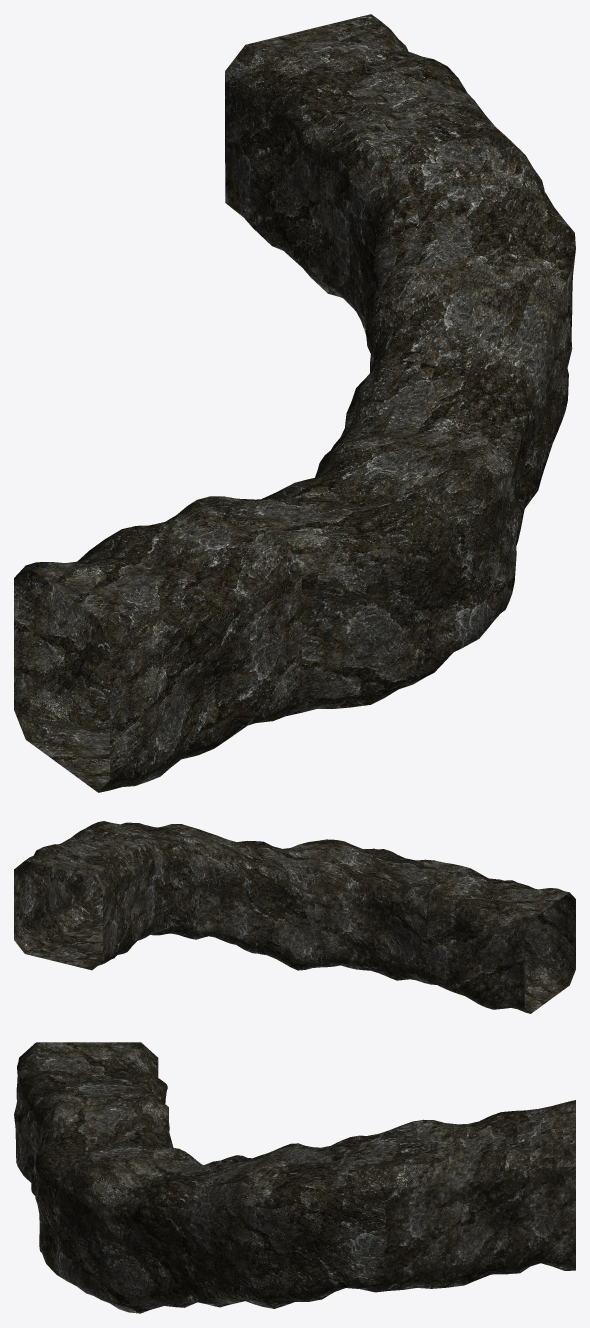
File: Cave_097.fbx
3 renders of one model, top to bottom at view 1: azimuth 30°, elevation 25°; view 2: azimuth 150°, elevation 25°; view 3: azimuth 270°, elevation 25°, orthographic. The views are drawn at different scales.
Parts seen in each view (by area): view 1: Cave.097; view 2: Cave.097; view 3: Cave.097.
Part boxes in pixels (box(x1,y1,x2,y2)): Cave.097: box(14, 14, 575, 792); Cave.097: box(14, 821, 575, 1013); Cave.097: box(14, 1042, 575, 1313).
Size of the model in its own units: 1217 by 608 by 1211.
